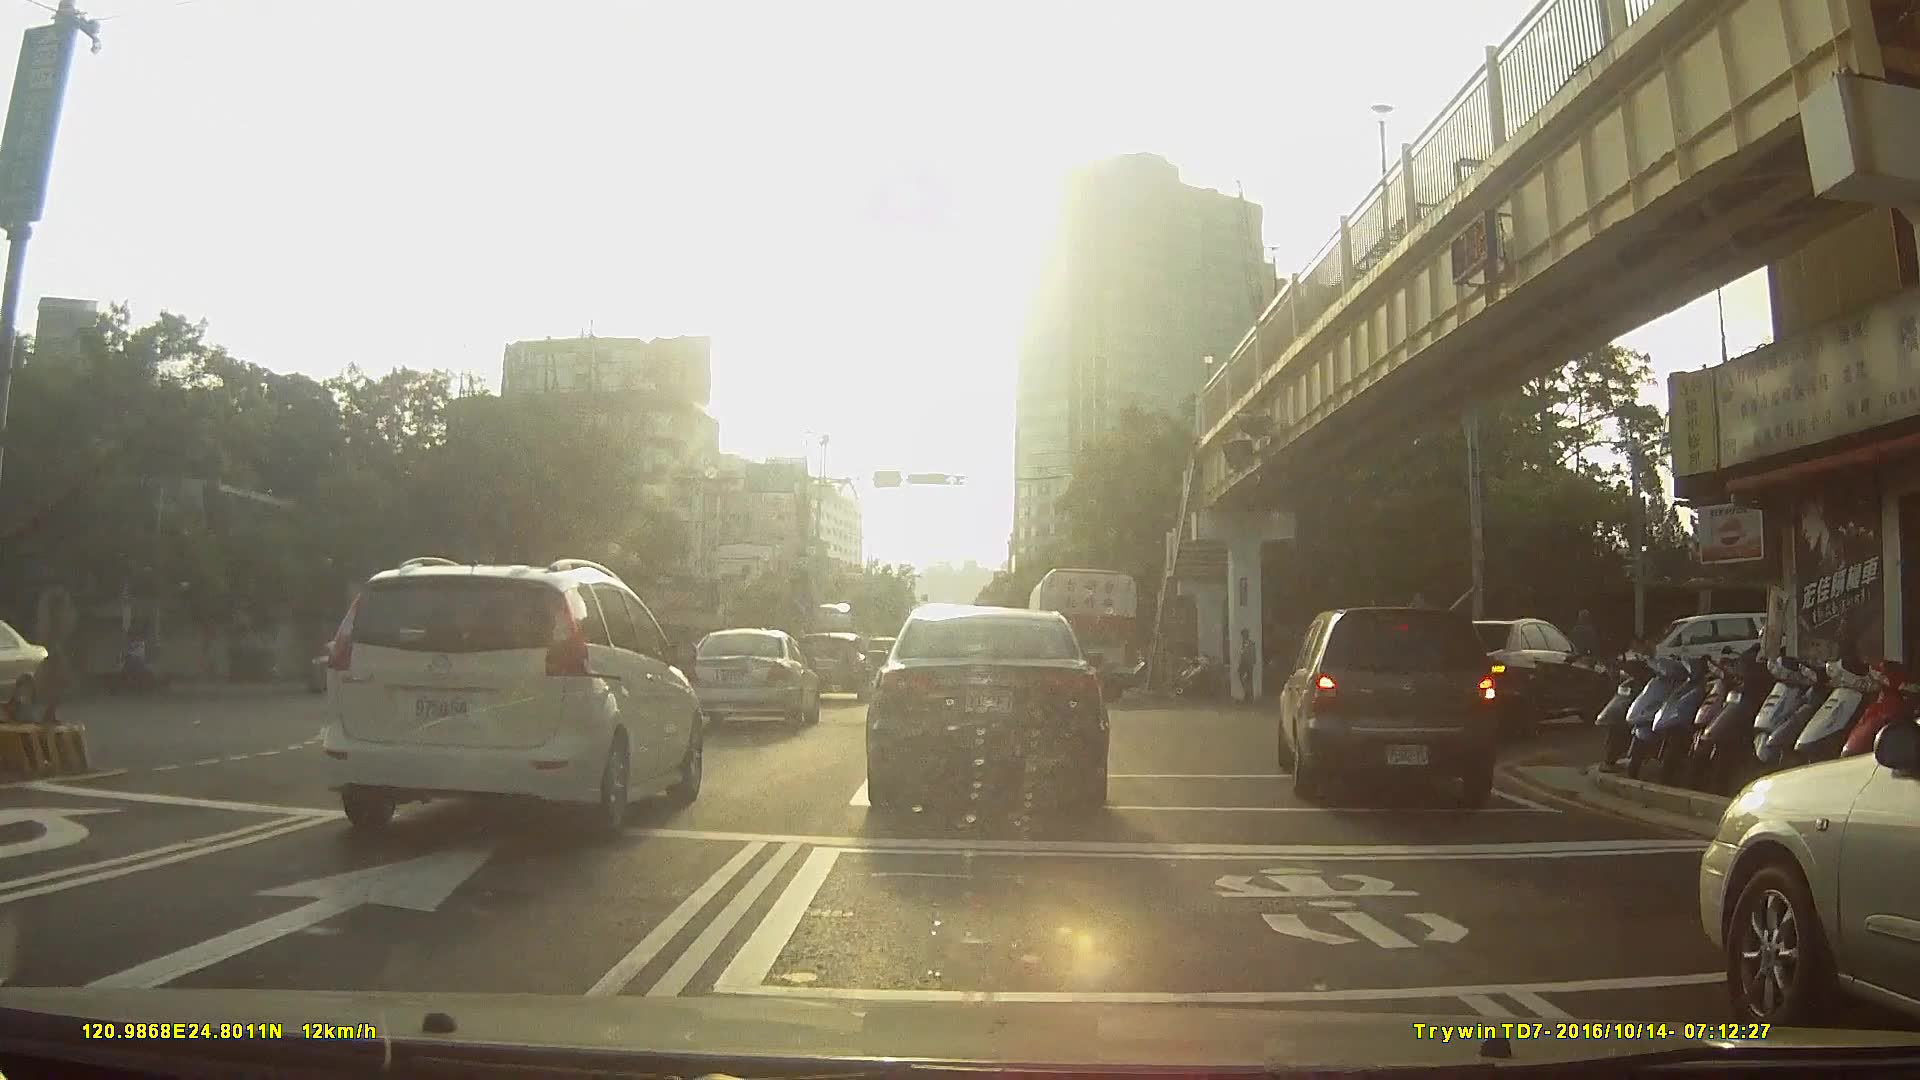pedestrian: (1235, 627, 1265, 705)
vehicle: (319, 557, 705, 845), (1710, 735, 1920, 1033), (868, 594, 1112, 817), (1269, 600, 1513, 809), (1432, 615, 1644, 738), (1028, 563, 1140, 701), (687, 627, 821, 735), (297, 623, 432, 718), (1, 617, 54, 726), (796, 628, 874, 702)
